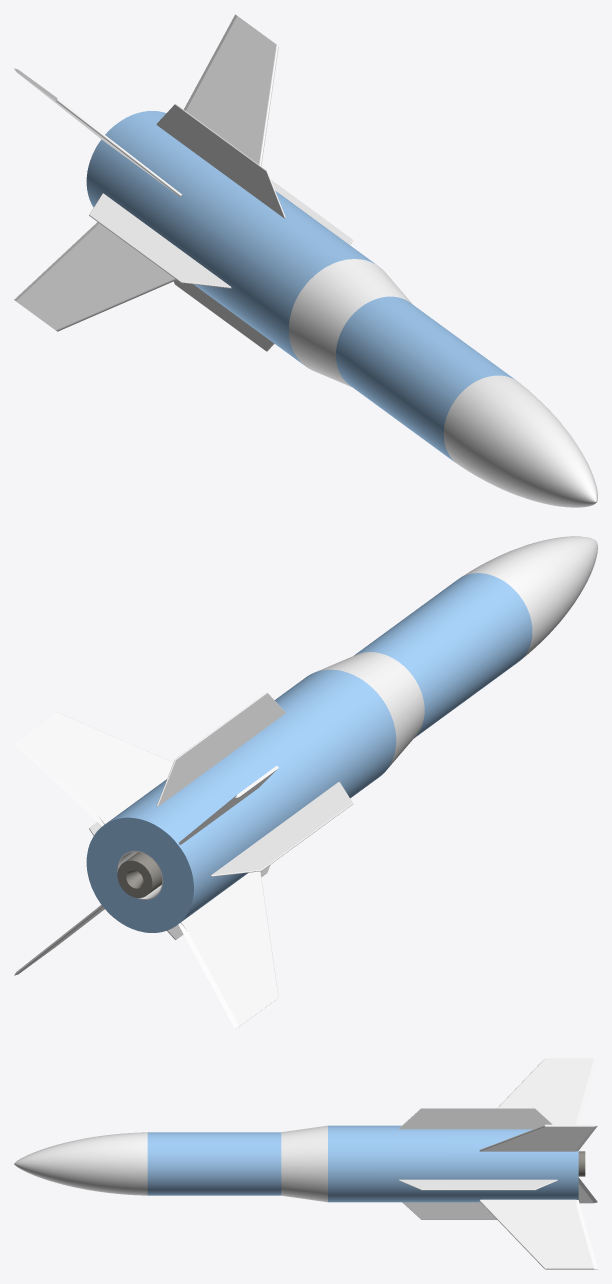
Rendered from rocket.glb.
The picture shows the model from 3 angles, top to bottom: view 1: azimuth 30°, elevation 25°; view 2: azimuth 150°, elevation 25°; view 3: azimuth 270°, elevation 25°; orthographic projection. The views are drawn at different scales.
Parts seen in each view (by area): view 1: upper_ring; view 2: upper_ring; view 3: upper_ring.
Part boxes in pixels (x1,y1,x2,y2): upper_ring: (14, 14, 597, 507); upper_ring: (14, 536, 597, 1029); upper_ring: (14, 1058, 597, 1269).
Size of the model in its own units: 0.4781 by 0.4781 by 1.75.
1 material, 1 textured.
